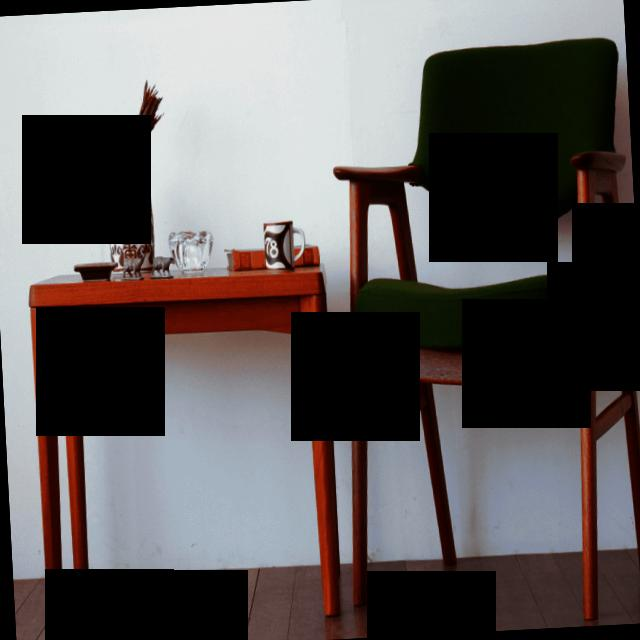chair vintage: (323, 34, 640, 633)
